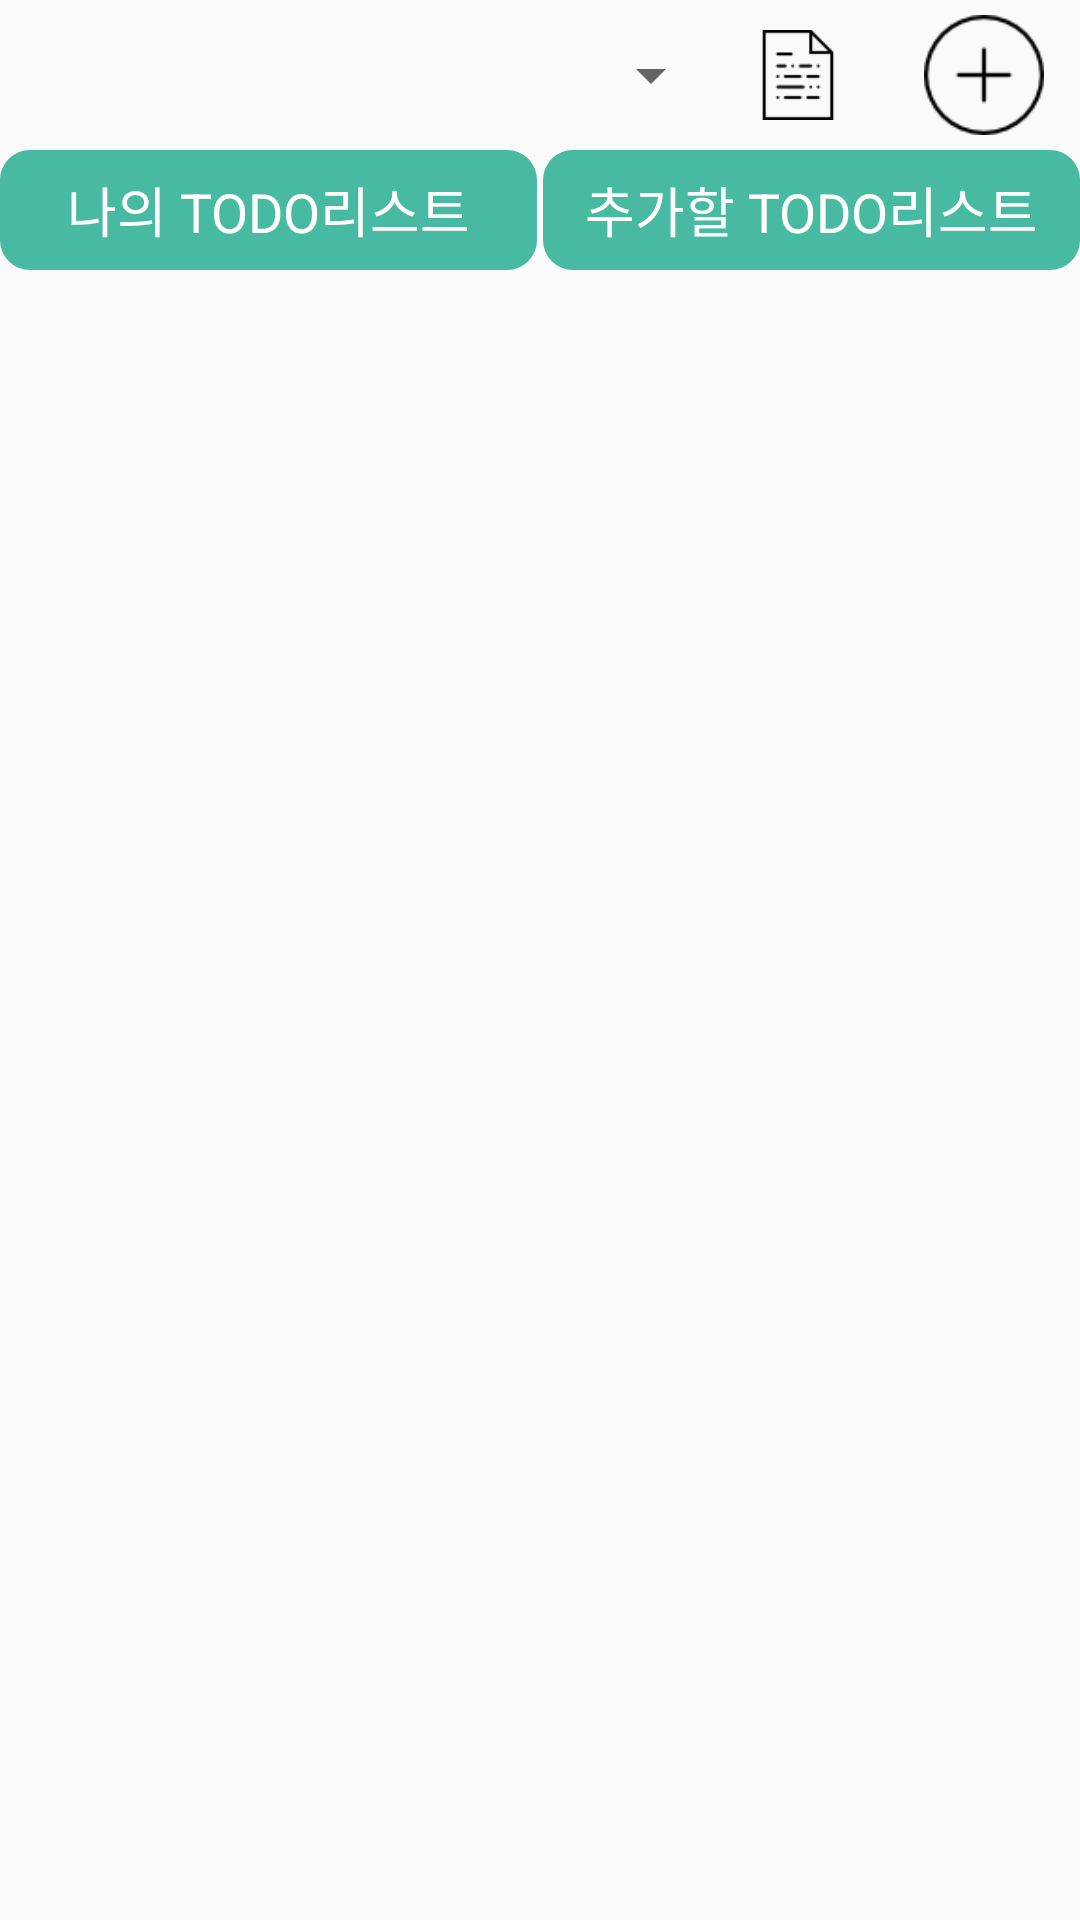

Screen size 1080 x 1920. Icon name, then its box in pixels as bbox=[x1, y1, x2, y2]:
add: bbox=[924, 15, 1044, 135]
